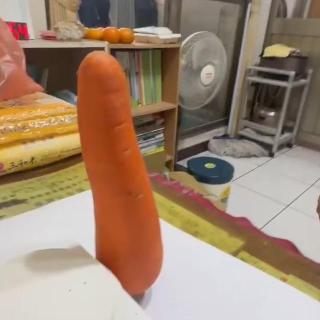carrot: (76, 49, 162, 296)
